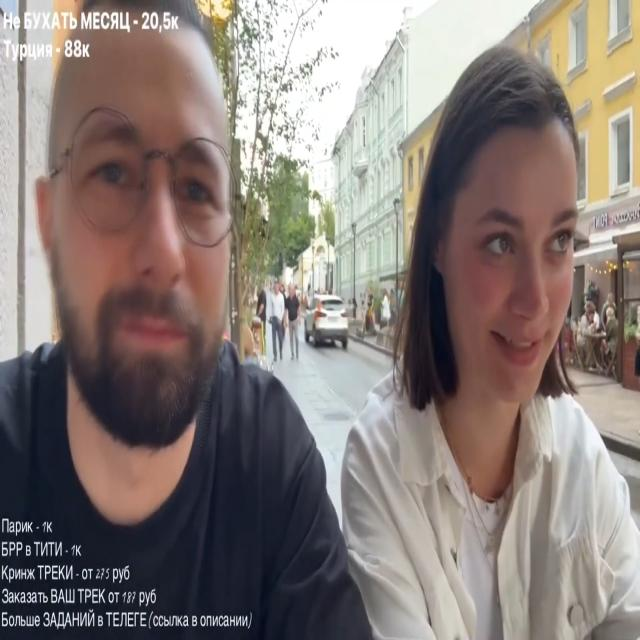Person: (0, 20, 360, 640), (309, 31, 640, 640), (576, 302, 605, 374), (263, 278, 287, 364), (286, 283, 302, 361)
